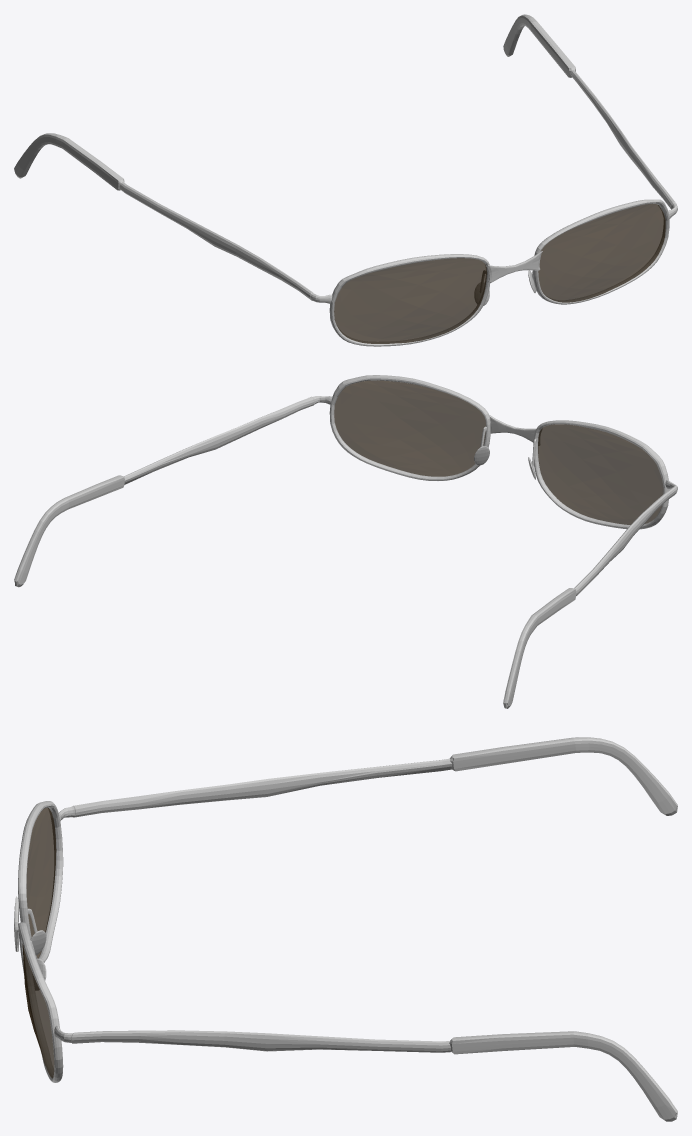
Rendered from glasses8.obj.
3 renders of one model, top to bottom at view 1: azimuth 30°, elevation 25°; view 2: azimuth 150°, elevation 25°; view 3: azimuth 270°, elevation 25°, orthographic. The views are drawn at different scales.
Visible parts, largest first — view 1: SunGlass_02_SunGlass_02_Lens, SunGlass_02_SunGlass_02_FrameRims, SunGlass_02_SunGlass_02_framesEars, SunGlass_02_SunGlass_02_earthings, SunGlass_02_SunGlass_02_noseframe; view 2: SunGlass_02_SunGlass_02_Lens, SunGlass_02_SunGlass_02_FrameRims, SunGlass_02_SunGlass_02_framesEars, SunGlass_02_SunGlass_02_earthings, SunGlass_02_SunGlass_02_noseframe; view 3: SunGlass_02_SunGlass_02_framesEars, SunGlass_02_SunGlass_02_earthings, SunGlass_02_SunGlass_02_FrameRims, SunGlass_02_SunGlass_02_Lens.
Part boxes in pixels (<box>): SunGlass_02_SunGlass_02_Lens: <box>334,203,665,343</box>; SunGlass_02_SunGlass_02_FrameRims: <box>329,199,669,346</box>; SunGlass_02_SunGlass_02_framesEars: <box>120,70,677,303</box>; SunGlass_02_SunGlass_02_earthings: <box>14,14,575,190</box>; SunGlass_02_SunGlass_02_noseframe: <box>487,251,542,282</box>; SunGlass_02_SunGlass_02_Lens: <box>334,380,663,524</box>; SunGlass_02_SunGlass_02_FrameRims: <box>329,375,669,529</box>; SunGlass_02_SunGlass_02_framesEars: <box>124,396,677,595</box>; SunGlass_02_SunGlass_02_earthings: <box>14,475,575,708</box>; SunGlass_02_SunGlass_02_noseframe: <box>489,414,542,445</box>; SunGlass_02_SunGlass_02_framesEars: <box>54,758,451,1052</box>; SunGlass_02_SunGlass_02_earthings: <box>449,737,677,1121</box>; SunGlass_02_SunGlass_02_FrameRims: <box>18,801,63,1082</box>; SunGlass_02_SunGlass_02_Lens: <box>22,807,56,1078</box>.
Size of the model in its own units: 0.1677 by 0.0304 by 0.1504.
